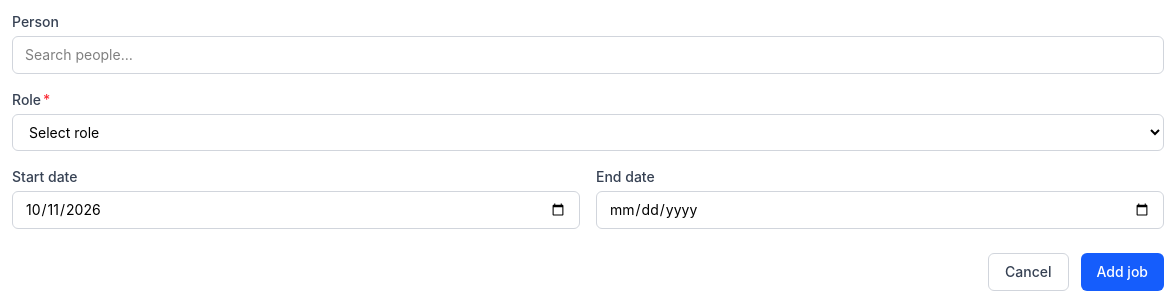
Test: JobForm — phase date pre-population › updates dates when specialization is changed via the select
The image size is (1176, 308).
Select "Director" in the dropdown at (588, 132), box top-left (12, 114), bottom-right (1164, 151)
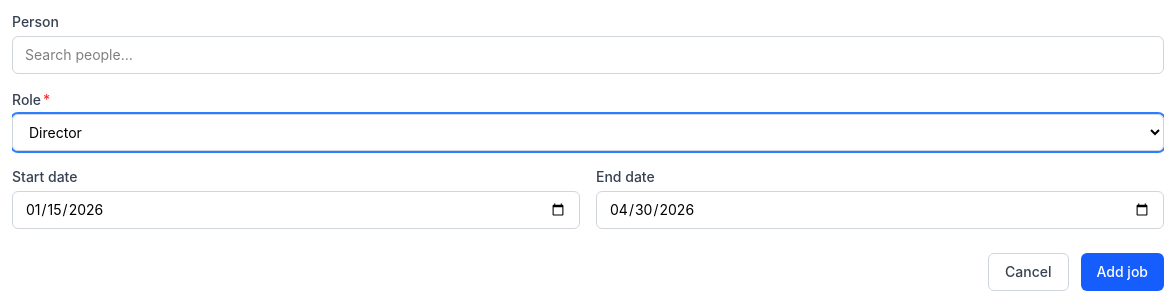
Expected: the date field showing "2026-01-15" below "Start date" is shown, top-left (12, 191), bottom-right (580, 229)
